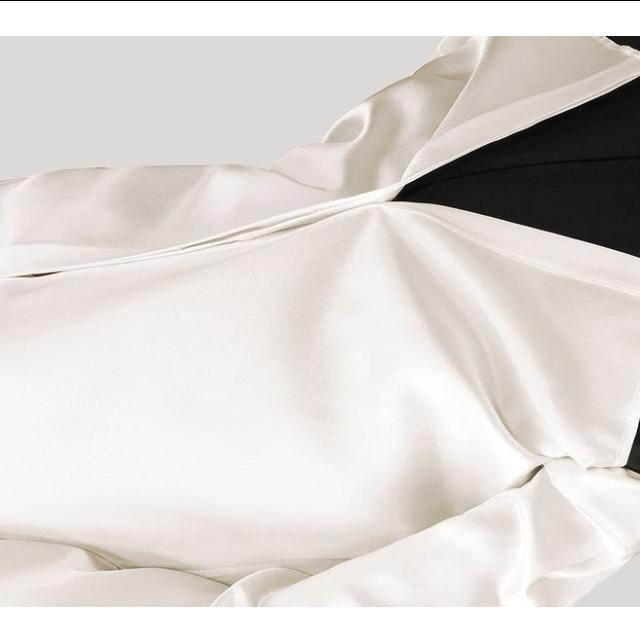silk: (0, 117, 416, 606)
